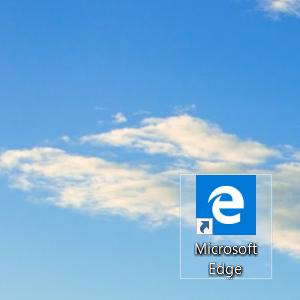edge: (196, 175, 257, 235)
